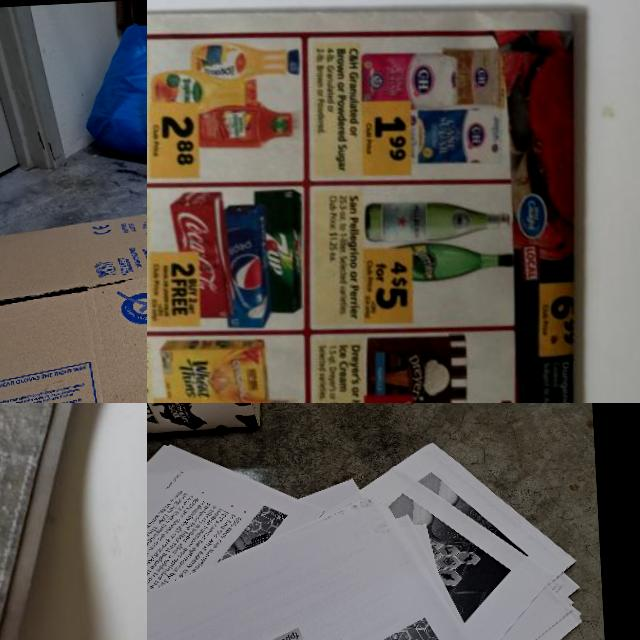caixinha: (147, 403, 266, 434)
papel: (147, 0, 605, 403), (147, 421, 596, 640), (0, 403, 121, 640)
papelão: (0, 179, 147, 403)
sacola plástica: (80, 9, 147, 172)
